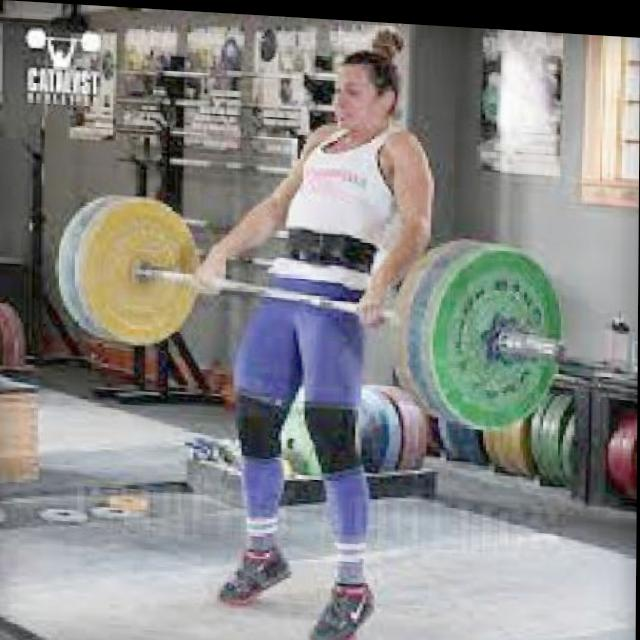barbell: (426, 241, 574, 434)
